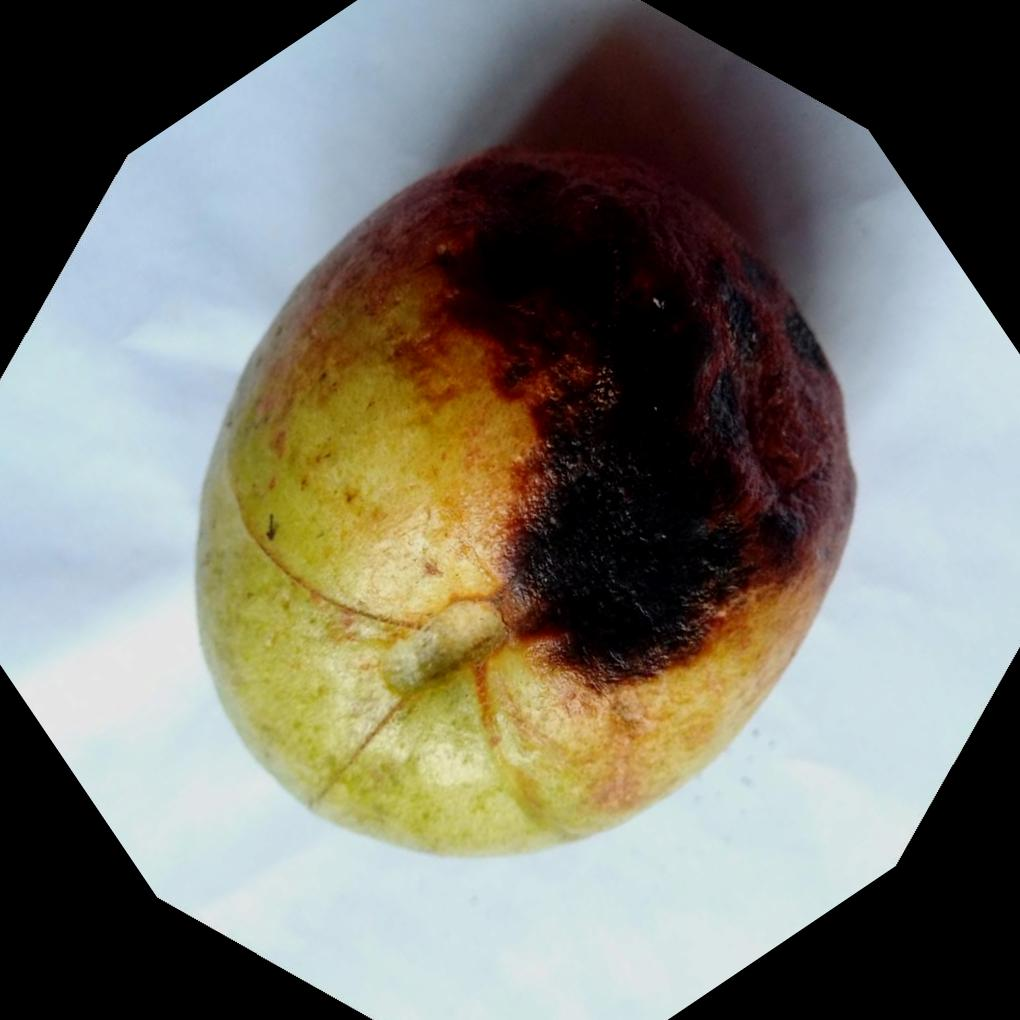FreshOrange: (188, 137, 857, 858)
